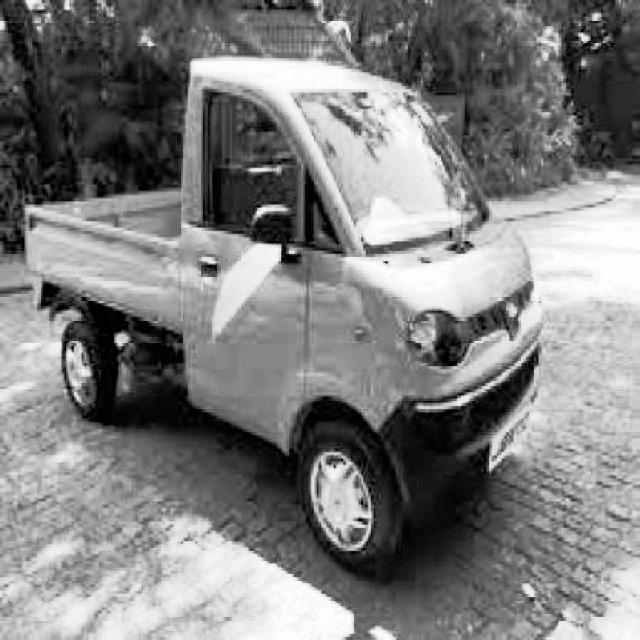LCV: (25, 86, 506, 539)
